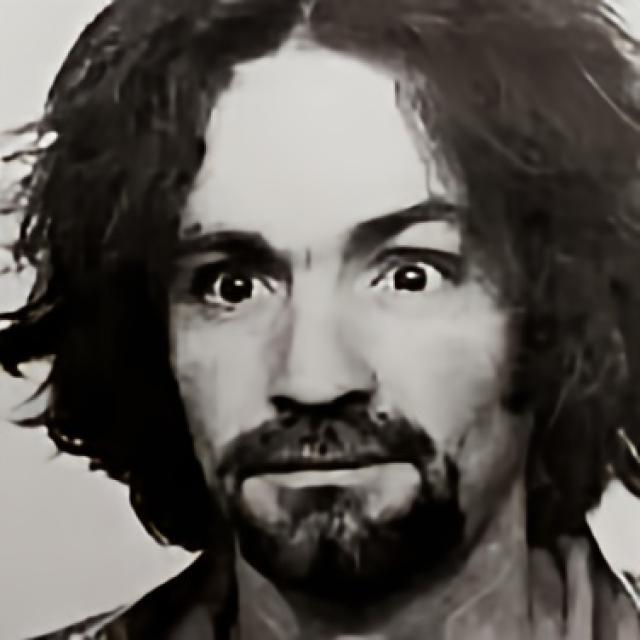surprise: (165, 46, 540, 608)
